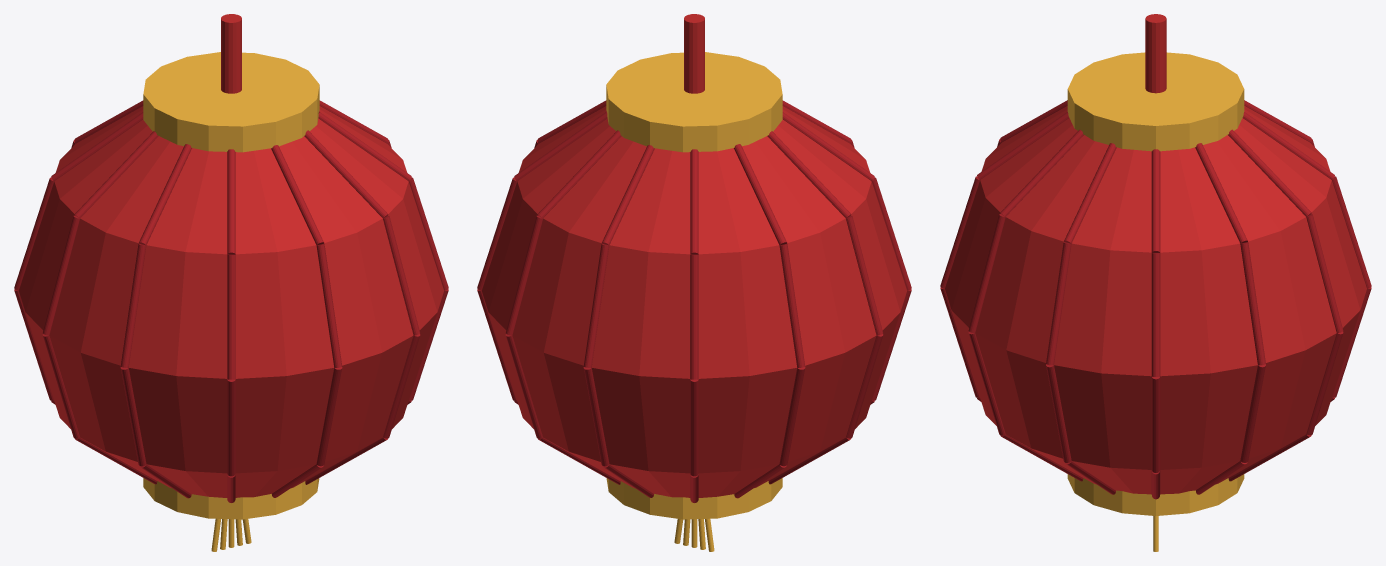
Rendered from scendance-plan-cn-lantern.glb.
3 renders of one model, left to right at view 1: azimuth 30°, elevation 25°; view 2: azimuth 150°, elevation 25°; view 3: azimuth 270°, elevation 25°, orthographic.
Size of the model in its own units: 0.6115 by 0.8206 by 0.6115.
